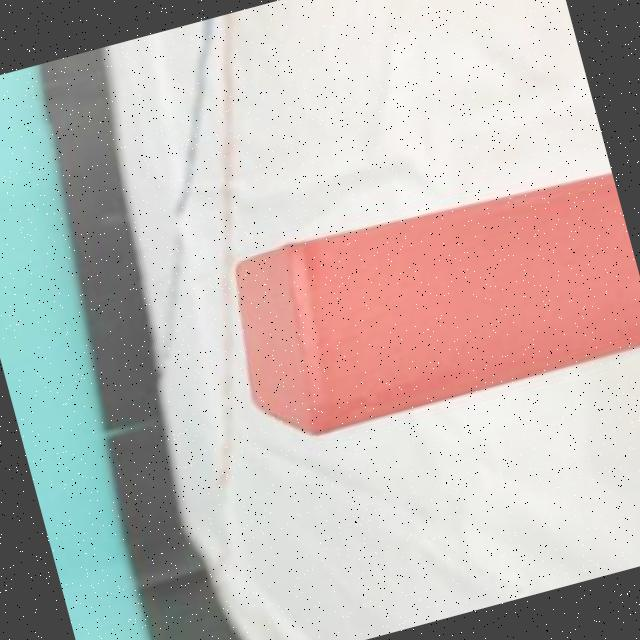redbox: (211, 158, 640, 451)
